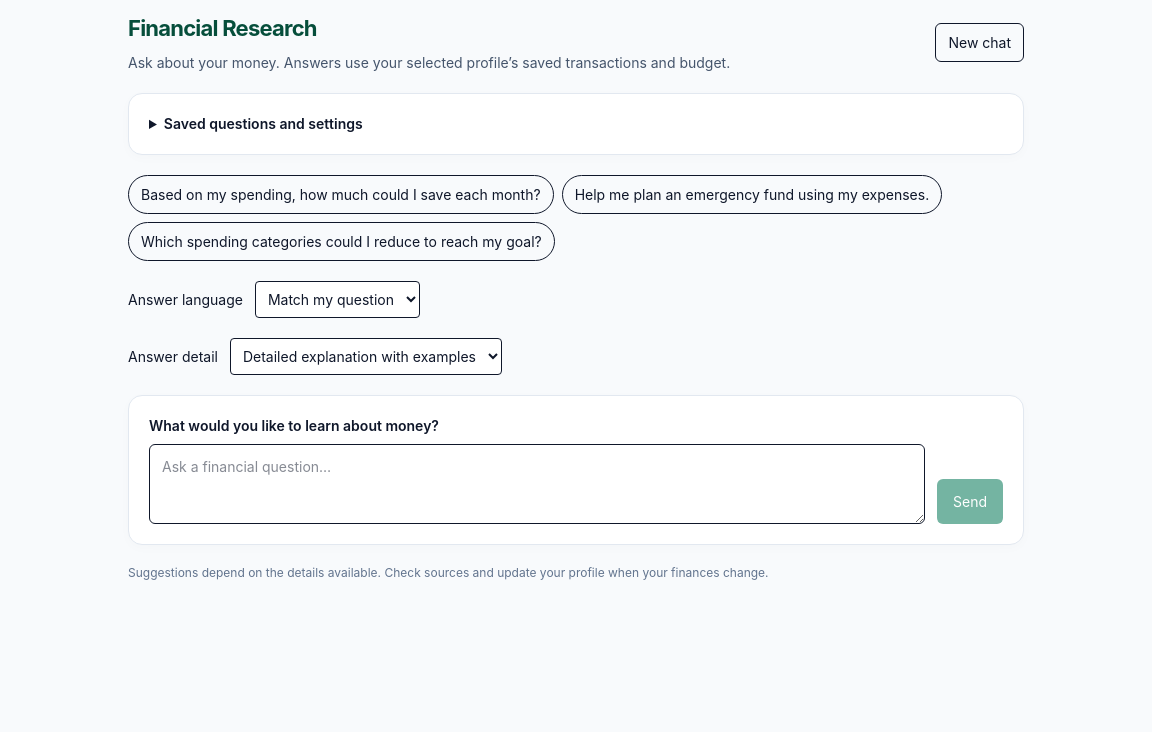
Test: Financial Research page › renders a calculated Bengali savings answer without an unsupported-answer error
This screenshot has width=1152, height=732.
Select "বাংলা" in the dropdown labelled "Answer language". click: {"x": 337, "y": 300}
box: 255,281 -> 420,318
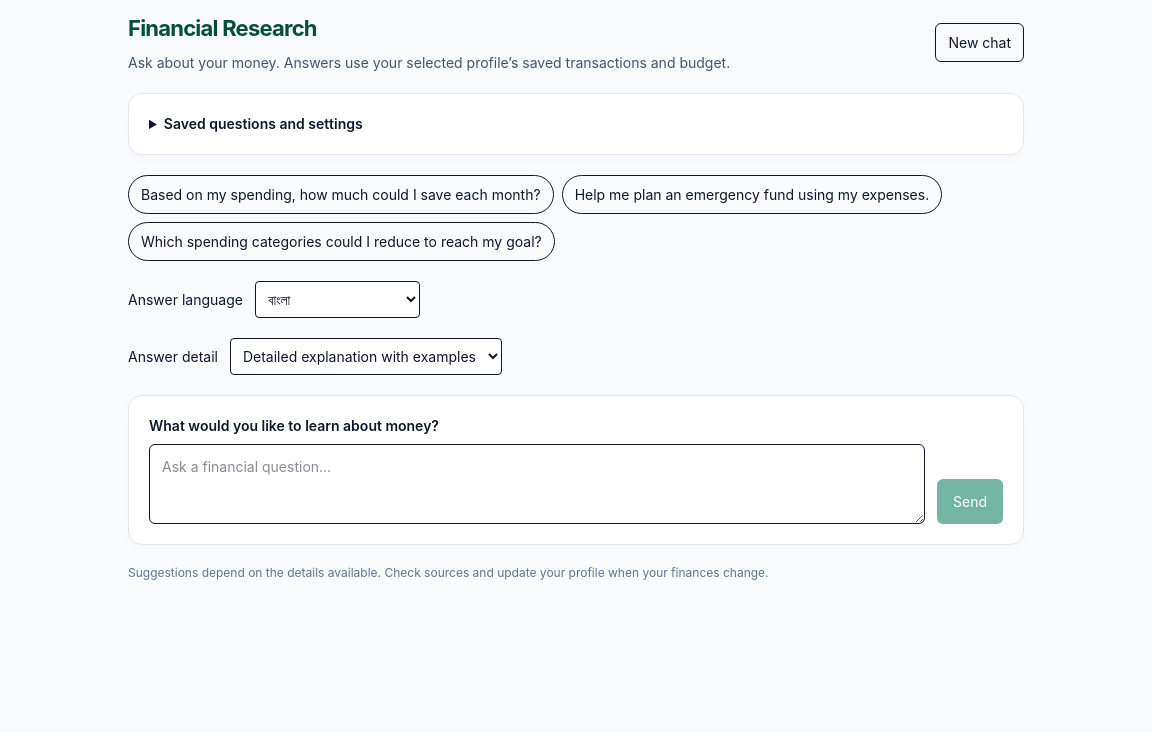
Type "Based on my spending, how much could I save each month?" into the text box labelled "What would you like to learn about money?". click: {"x": 537, "y": 484}
box: 149,444 -> 925,524
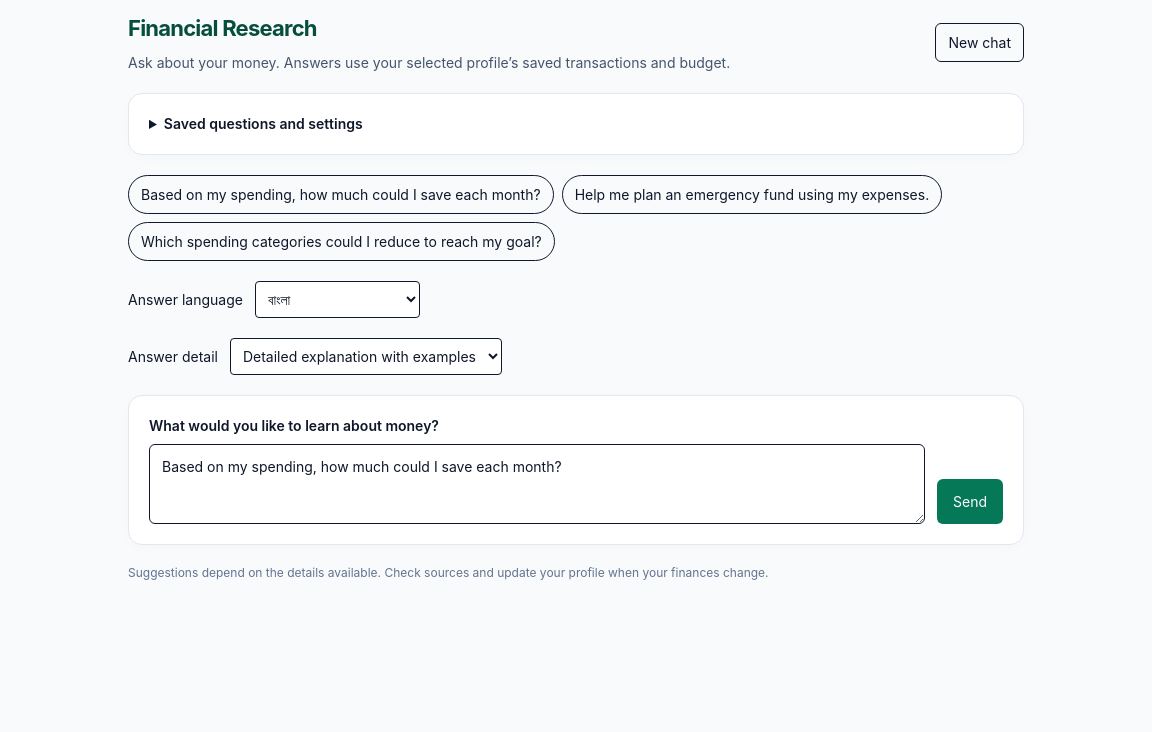
Click the button "Send". click: {"x": 970, "y": 502}
box: 937,479 -> 1003,524
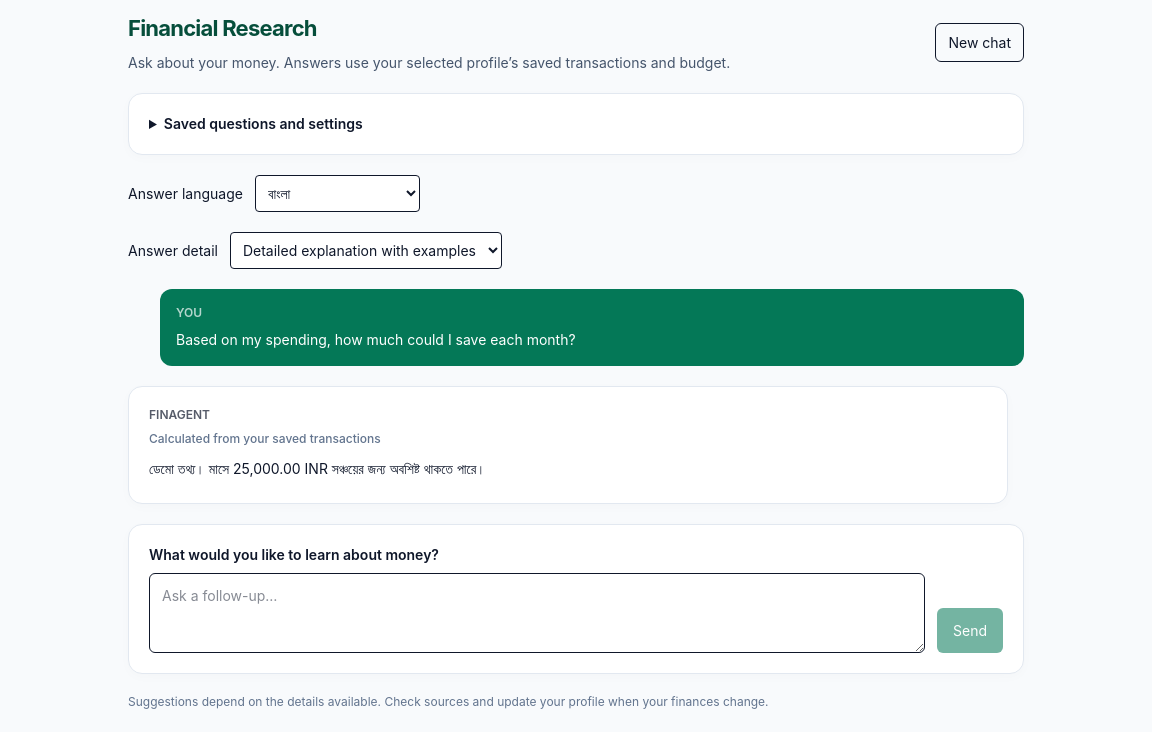
Now the text "মাসে 25,000.00 INR" is shown, box 149,460 -> 486,477
Now the text "Calculated from your saved transactions" is shown, box 149,431 -> 381,446
